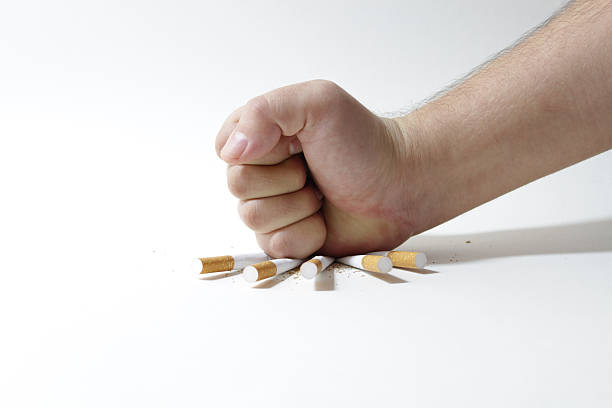cigarette: (183, 248, 279, 272), (240, 257, 302, 282), (370, 250, 428, 270), (339, 254, 394, 274), (298, 254, 335, 281)
